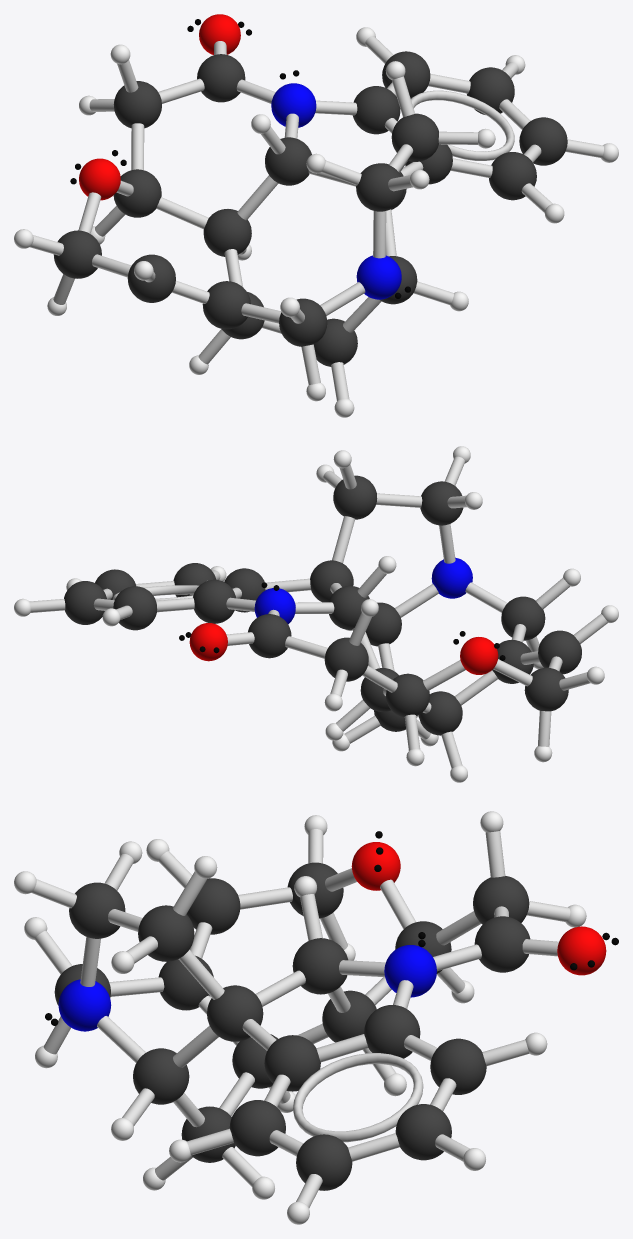
Rendered from strychnine.glb.
The picture shows the model from 3 angles, top to bottom: view 1: azimuth 30°, elevation 25°; view 2: azimuth 150°, elevation 25°; view 3: azimuth 270°, elevation 25°; orthographic projection. The views are drawn at different scales.
Parts seen in each view (by area): view 1: AromaRing_Strychnine_5, Atom_Strychnine_14_C, Atom_Strychnine_20_C, Atom_Strychnine_10_C, Atom_Strychnine_4_C, Atom_Strychnine_24_C, Atom_Strychnine_0_C, Atom_Strychnine_9_C, Atom_Strychnine_21_C, Atom_Strychnine_6_C, Atom_Strychnine_1_C, Atom_Strychnine_13_C (+23 smaller); view 2: Atom_Strychnine_10_C, Atom_Strychnine_24_C, Atom_Strychnine_6_C, Atom_Strychnine_8_C, Atom_Strychnine_0_C, Atom_Strychnine_15_C, Atom_Strychnine_9_C, Atom_Strychnine_22_C, Atom_Strychnine_3_C, Atom_Strychnine_1_C, Atom_Strychnine_23_C, Atom_Strychnine_5_C (+25 smaller); view 3: AromaRing_Strychnine_5, Atom_Strychnine_10_C, Atom_Strychnine_20_C, Atom_Strychnine_23_C, Atom_Strychnine_22_C, Atom_Strychnine_21_C, Atom_Strychnine_13_C, Atom_Strychnine_17_C, Atom_Strychnine_18_C, Atom_Strychnine_1_C, Atom_Strychnine_0_C, Atom_Strychnine_19_C (+39 smaller).
Part boxes in pixels (box(x1,y1,x2,y2)): AromaRing_Strychnine_5: box(411, 90, 514, 160); Atom_Strychnine_14_C: box(203, 209, 251, 256); Atom_Strychnine_20_C: box(489, 152, 536, 200); Atom_Strychnine_10_C: box(197, 54, 245, 102); Atom_Strychnine_4_C: box(202, 281, 250, 329); Atom_Strychnine_24_C: box(352, 86, 400, 134); Atom_Strychnine_0_C: box(391, 113, 438, 161); Atom_Strychnine_9_C: box(113, 81, 161, 128); Atom_Strychnine_21_C: box(519, 117, 567, 165); Atom_Strychnine_6_C: box(53, 230, 101, 278); Atom_Strychnine_1_C: box(356, 163, 404, 211); Atom_Strychnine_13_C: box(265, 137, 311, 185); Atom_Strychnine_10_C: box(248, 614, 291, 658); Atom_Strychnine_24_C: box(193, 579, 235, 623); Atom_Strychnine_6_C: box(524, 667, 568, 711); Atom_Strychnine_8_C: box(386, 673, 429, 717); Atom_Strychnine_0_C: box(333, 475, 377, 519); Atom_Strychnine_15_C: box(418, 691, 462, 735); Atom_Strychnine_9_C: box(324, 637, 368, 681); Atom_Strychnine_22_C: box(64, 581, 106, 624); Atom_Strychnine_3_C: box(501, 596, 545, 640); Atom_Strychnine_1_C: box(420, 481, 463, 525); Atom_Strychnine_23_C: box(113, 586, 157, 630); Atom_Strychnine_5_C: box(538, 630, 581, 674); AromaRing_Strychnine_5: box(293, 1053, 423, 1142); Atom_Strychnine_10_C: box(474, 916, 530, 972); Atom_Strychnine_20_C: box(229, 1100, 285, 1156); Atom_Strychnine_23_C: box(430, 1038, 486, 1094); Atom_Strychnine_22_C: box(395, 1104, 451, 1160); Atom_Strychnine_21_C: box(296, 1134, 352, 1190); Atom_Strychnine_13_C: box(292, 938, 348, 994); Atom_Strychnine_17_C: box(133, 1048, 189, 1104); Atom_Strychnine_18_C: box(207, 985, 263, 1041); Atom_Strychnine_1_C: box(69, 882, 125, 938); Atom_Strychnine_0_C: box(138, 905, 194, 961); Atom_Strychnine_19_C: box(264, 1035, 320, 1091).
Size of the model in its own units: 10.78 by 5.56 by 8.14.
